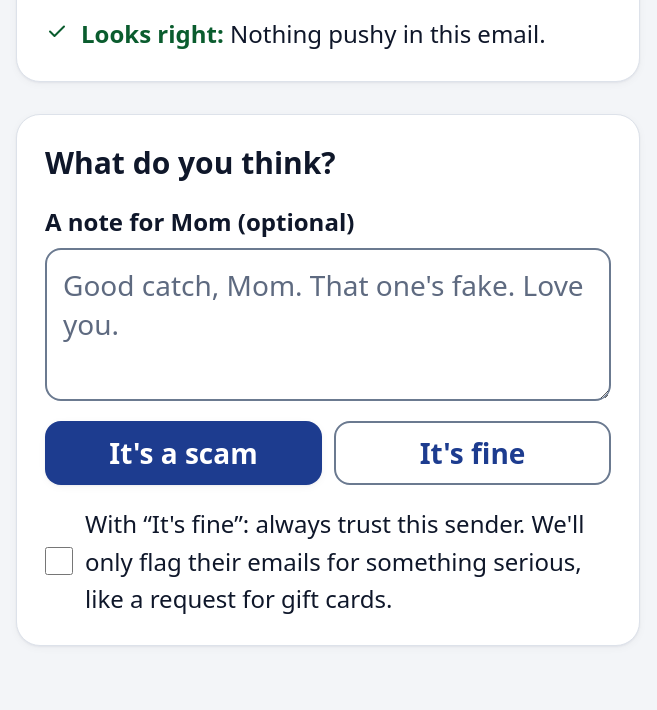
feed item detail › shows the server's own plain message when it refuses the answer
(page scrolled)
Click the button "It's a scam" at (184, 453), box x1=45 y1=421 x2=322 y2=485
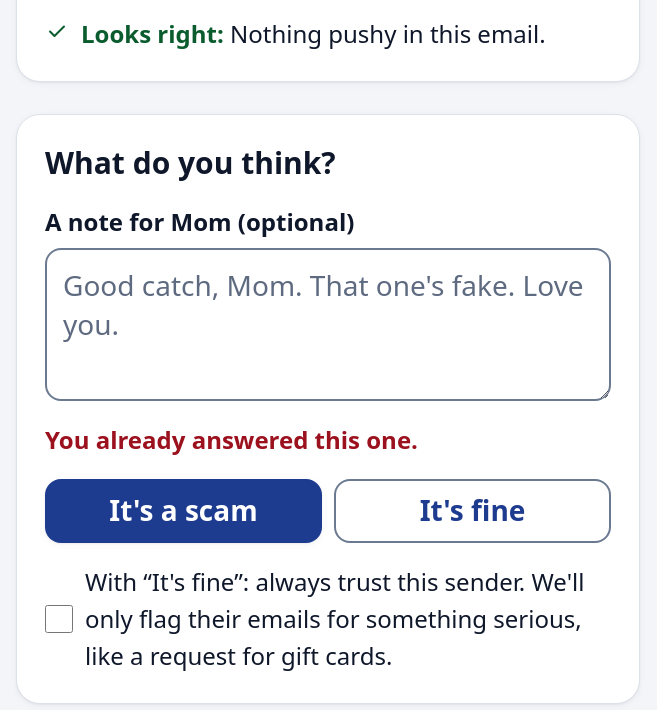
Check: the message reads "You already answered this one.", box x1=45 y1=423 x2=418 y2=456
